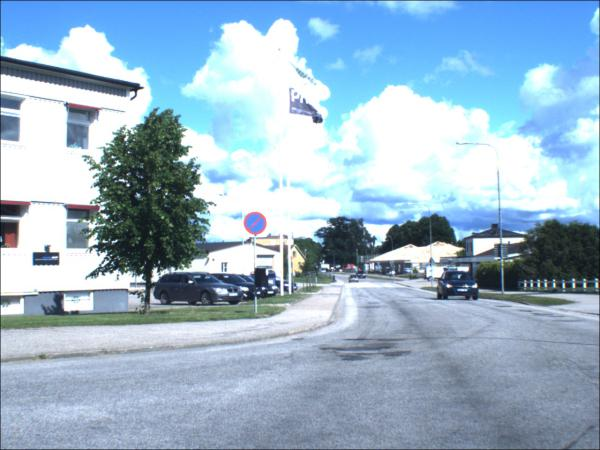NO_PARKING: (242, 211, 268, 239)
PRIORITY_ROAD: (331, 269, 335, 273)
